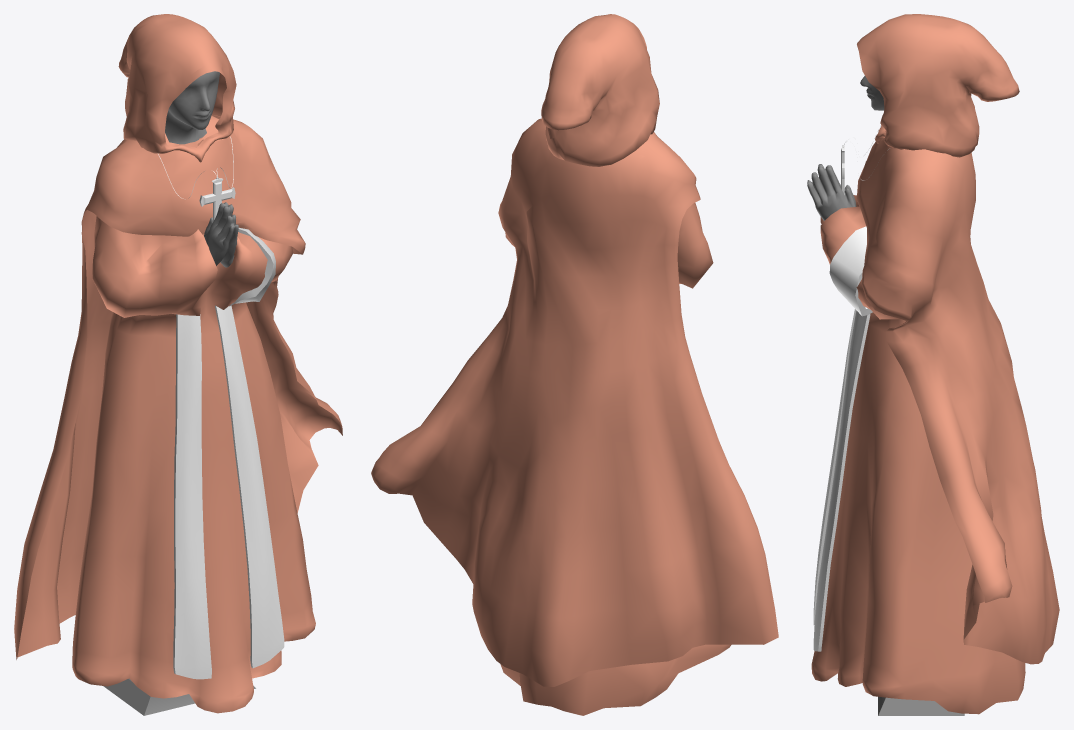
The model's file is p_bishop.fbx.
3 views of the same model, side by side, from view 1: azimuth 30°, elevation 25°; view 2: azimuth 150°, elevation 25°; view 3: azimuth 270°, elevation 25° (orthographic). The views are drawn at different scales.
Parts seen in each view (by area): view 1: Bishop_new; view 2: Bishop_new; view 3: Bishop_new.
Boxes of the visible parts, left/top/right/bottom form: Bishop_new: left=14, top=14, right=342, bottom=715; Bishop_new: left=371, top=14, right=778, bottom=715; Bishop_new: left=807, top=14, right=1059, bottom=715.
Size of the model in its own units: 119 by 69.78 by 204.
